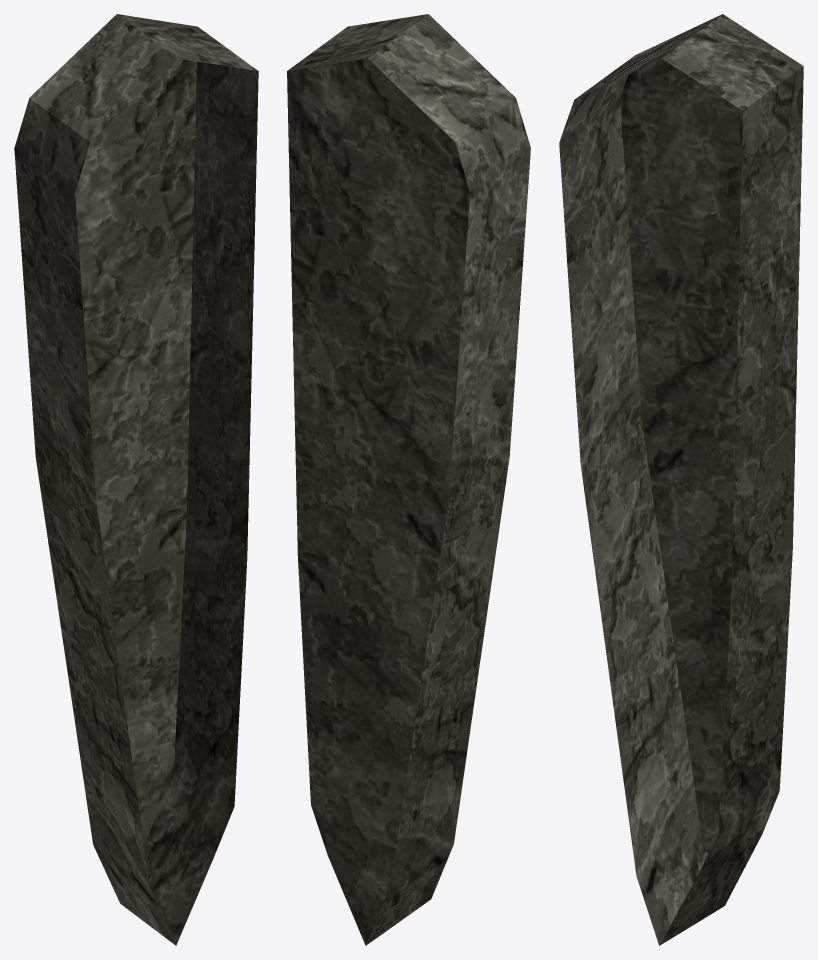
Rendered from TI_Plaster_09.fbx.
3 renders of one model, left to right at view 1: azimuth 30°, elevation 25°; view 2: azimuth 150°, elevation 25°; view 3: azimuth 330°, elevation 25°, orthographic.
Visible parts, largest first — view 1: TI_Plaster_09; view 2: TI_Plaster_09; view 3: TI_Plaster_09.
Part boxes in pixels (x1,y1,x2,y2): TI_Plaster_09: (14,14,258,945); TI_Plaster_09: (287,14,530,945); TI_Plaster_09: (559,14,803,945).
Bounding box in the file's own units: 0.1842 × 0.8538 × 0.1087.
